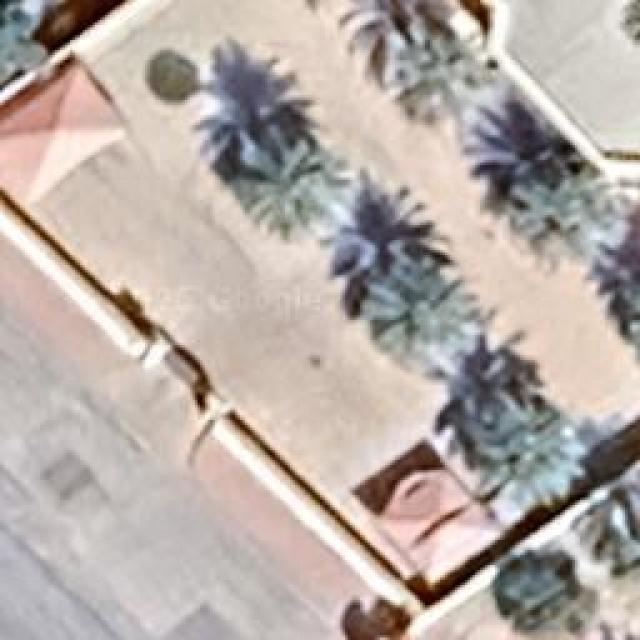PalmTree: (106, 113, 559, 195), (110, 62, 431, 113), (362, 260, 482, 380), (235, 130, 363, 242), (472, 400, 580, 520), (338, 0, 452, 88), (622, 268, 640, 376), (620, 0, 638, 48)
